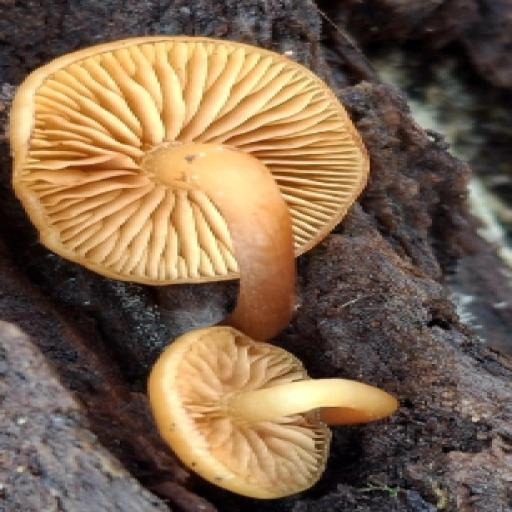mushroom: (7, 36, 378, 293), (135, 315, 401, 496)
